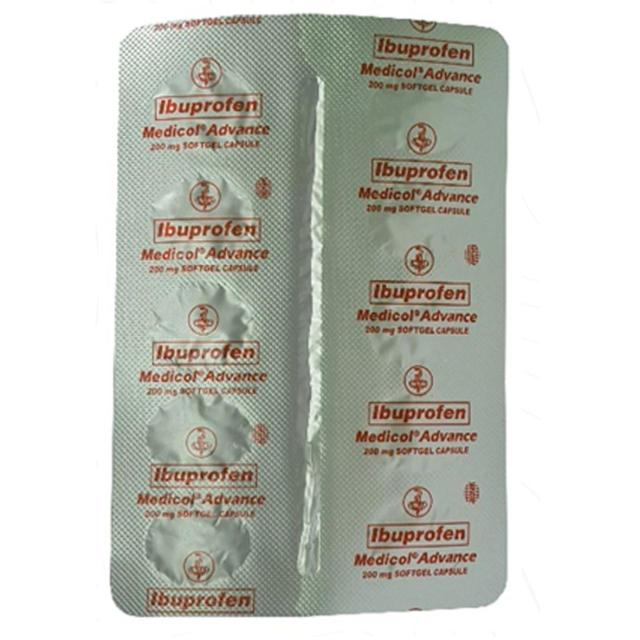blister: (103, 9, 517, 621)
